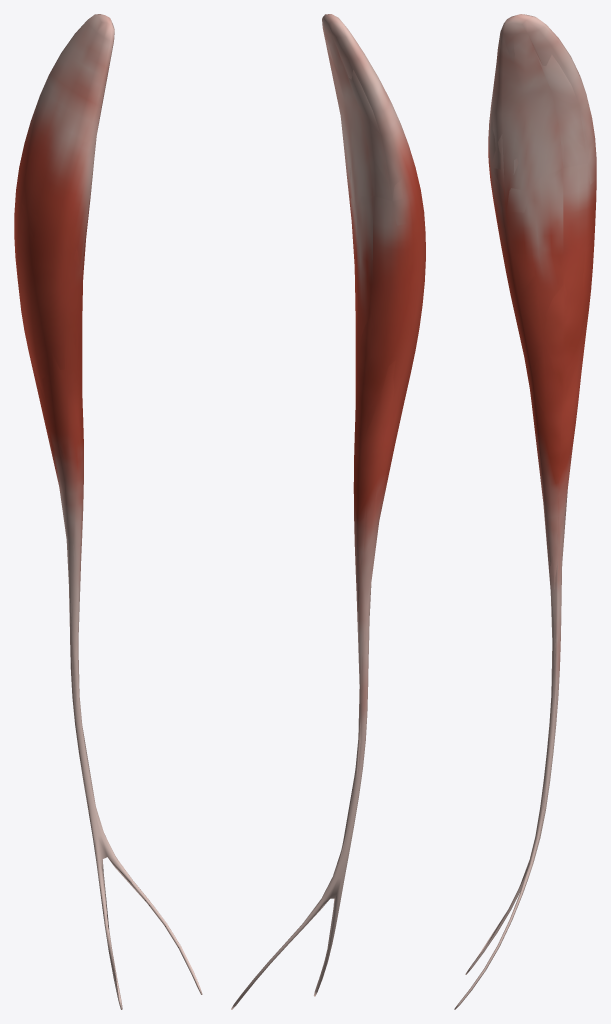
File: R Common Digital Extensor.fbx
3 renders of one model, left to right at view 1: azimuth 30°, elevation 25°; view 2: azimuth 210°, elevation 25°; view 3: azimuth 270°, elevation 25°, orthographic. The views are drawn at different scales.
Visible parts, largest first — view 1: R Common Digital Extensor, R Common Digital Extensor low; view 2: R Common Digital Extensor, R Common Digital Extensor low; view 3: R Common Digital Extensor low, R Common Digital Extensor.
Part boxes in pixels (x1=…): R Common Digital Extensor: x1=14, y1=14, x2=202, y2=1009; R Common Digital Extensor low: x1=21, y1=14, x2=199, y2=997; R Common Digital Extensor: x1=231, y1=14, x2=425, y2=1009; R Common Digital Extensor low: x1=242, y1=14, x2=425, y2=994; R Common Digital Extensor low: x1=473, y1=14, x2=596, y2=986; R Common Digital Extensor: x1=454, y1=14, x2=596, y2=1009.
Size of the model in its own units: 3.05 by 21.12 by 2.83.
